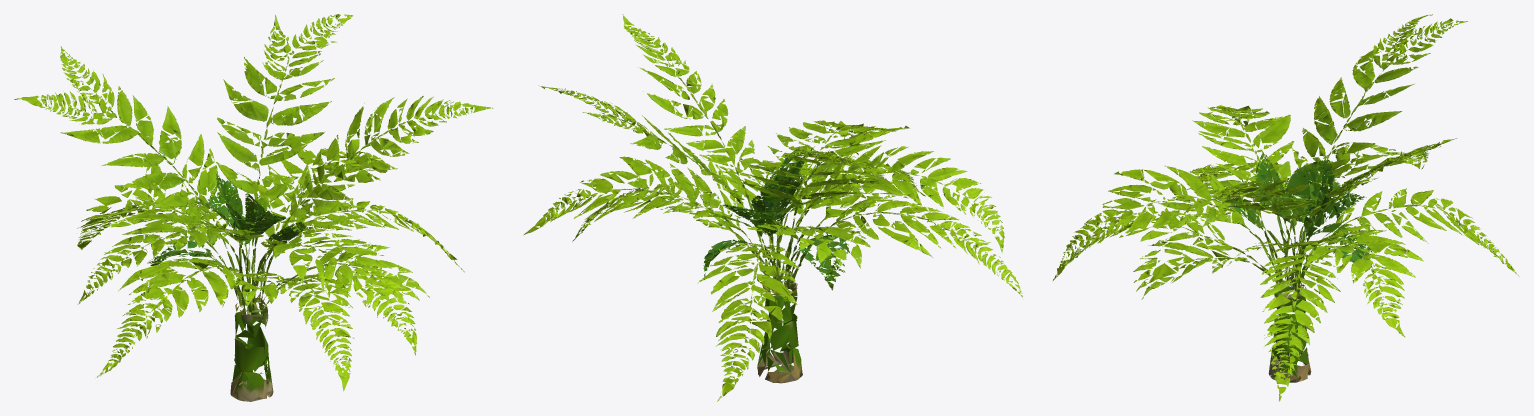
The model's file is fern.glb.
3 views of the same model, side by side, from view 1: azimuth 30°, elevation 25°; view 2: azimuth 150°, elevation 25°; view 3: azimuth 270°, elevation 25° (orthographic). The views are drawn at different scales.
Visible parts, largest first — view 1: Mesh_0; view 2: Mesh_0; view 3: Mesh_0.
Boxes of the visible parts, <box> form: Mesh_0: <box>14,14,493,401</box>; Mesh_0: <box>523,14,1022,401</box>; Mesh_0: <box>1053,14,1519,401</box>.
Size of the model in its own units: 1.38 by 1 by 1.39.
1 material, 1 textured.
